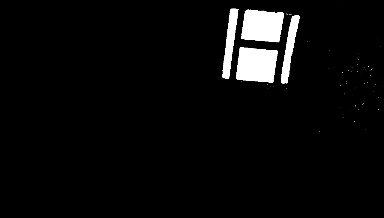H: (226, 6, 295, 85)
